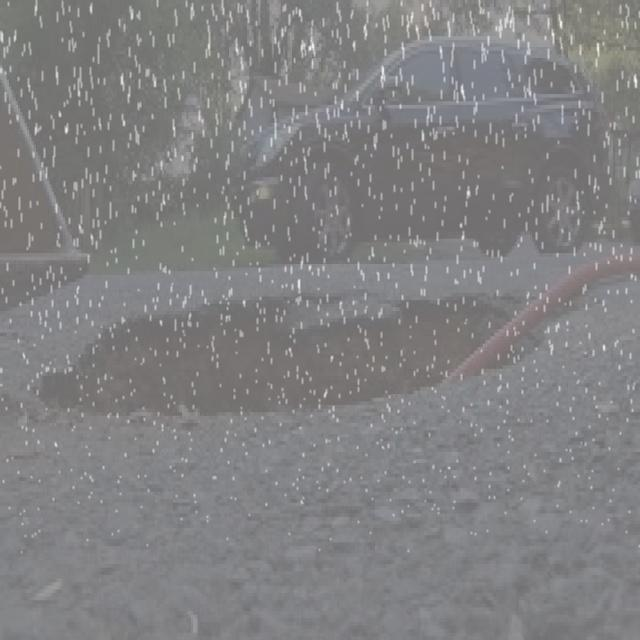Pothole: (23, 265, 558, 434)
